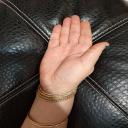OpenPalm: (39, 14, 112, 98)
